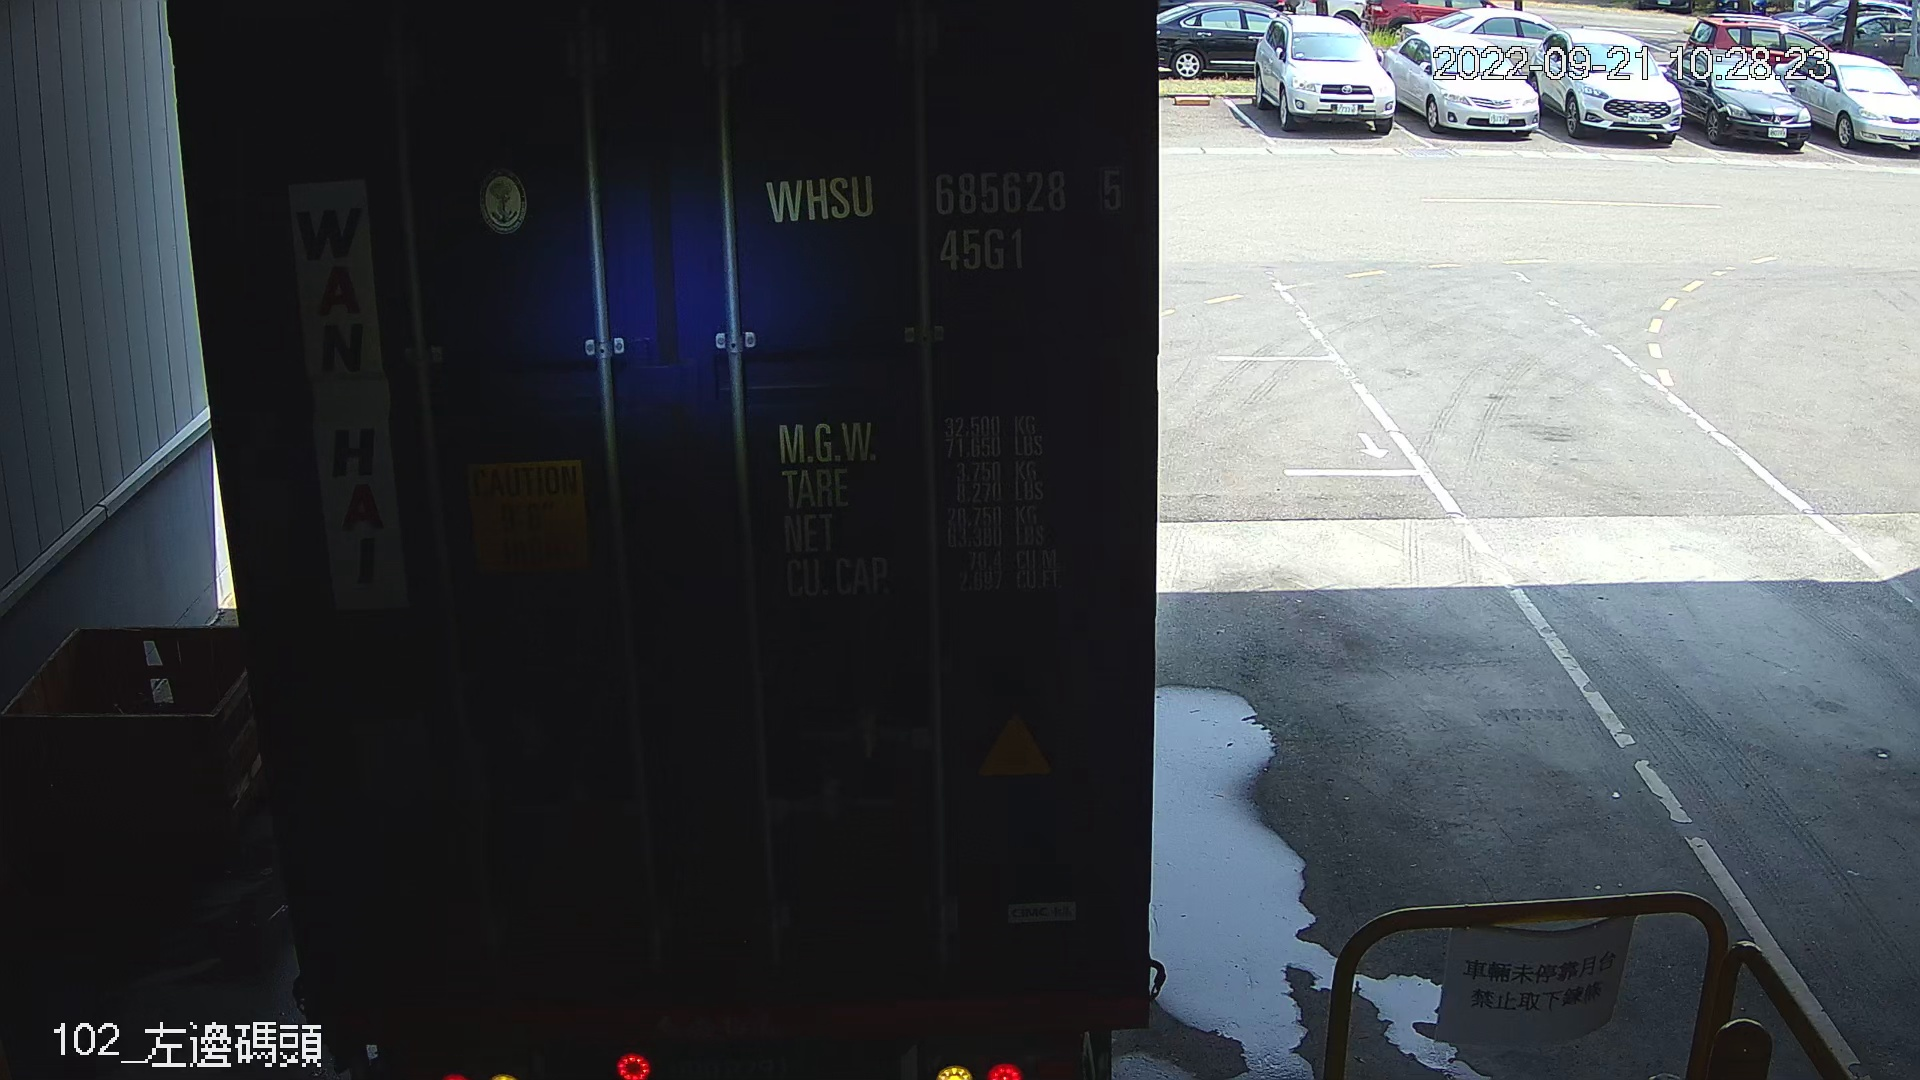container: (742, 148, 1138, 282)
